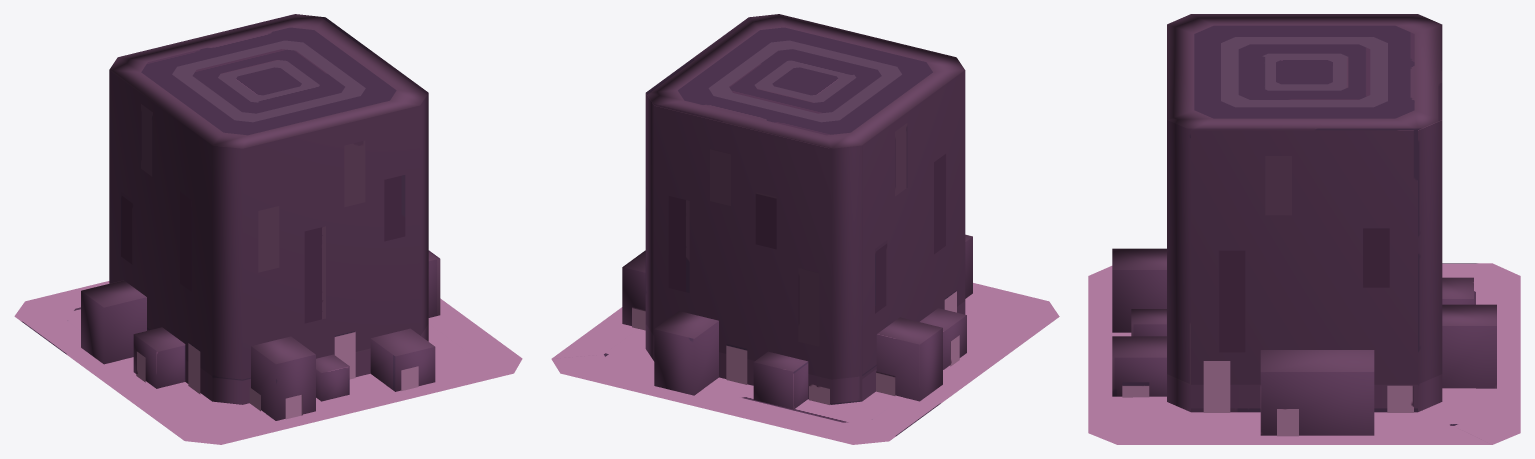
Rendered from B_forest2_rock01.fbx.
3 views of the same model, side by side, from view 1: azimuth 30°, elevation 25°; view 2: azimuth 150°, elevation 25°; view 3: azimuth 270°, elevation 25° (orthographic). The views are drawn at different scales.
Parts seen in each view (by area): view 1: model 1, model; view 2: model 1, model; view 3: model 1, model.
Boxes of the visible parts, x1,y1,x2,y2 form: model 1: [14, 14, 522, 444]; model: [67, 307, 470, 422]; model 1: [551, 14, 1059, 444]; model: [604, 300, 1006, 422]; model 1: [1088, 14, 1520, 444]; model: [1133, 291, 1475, 425].
Size of the model in its own units: 3.11 by 2.27 by 3.12.
